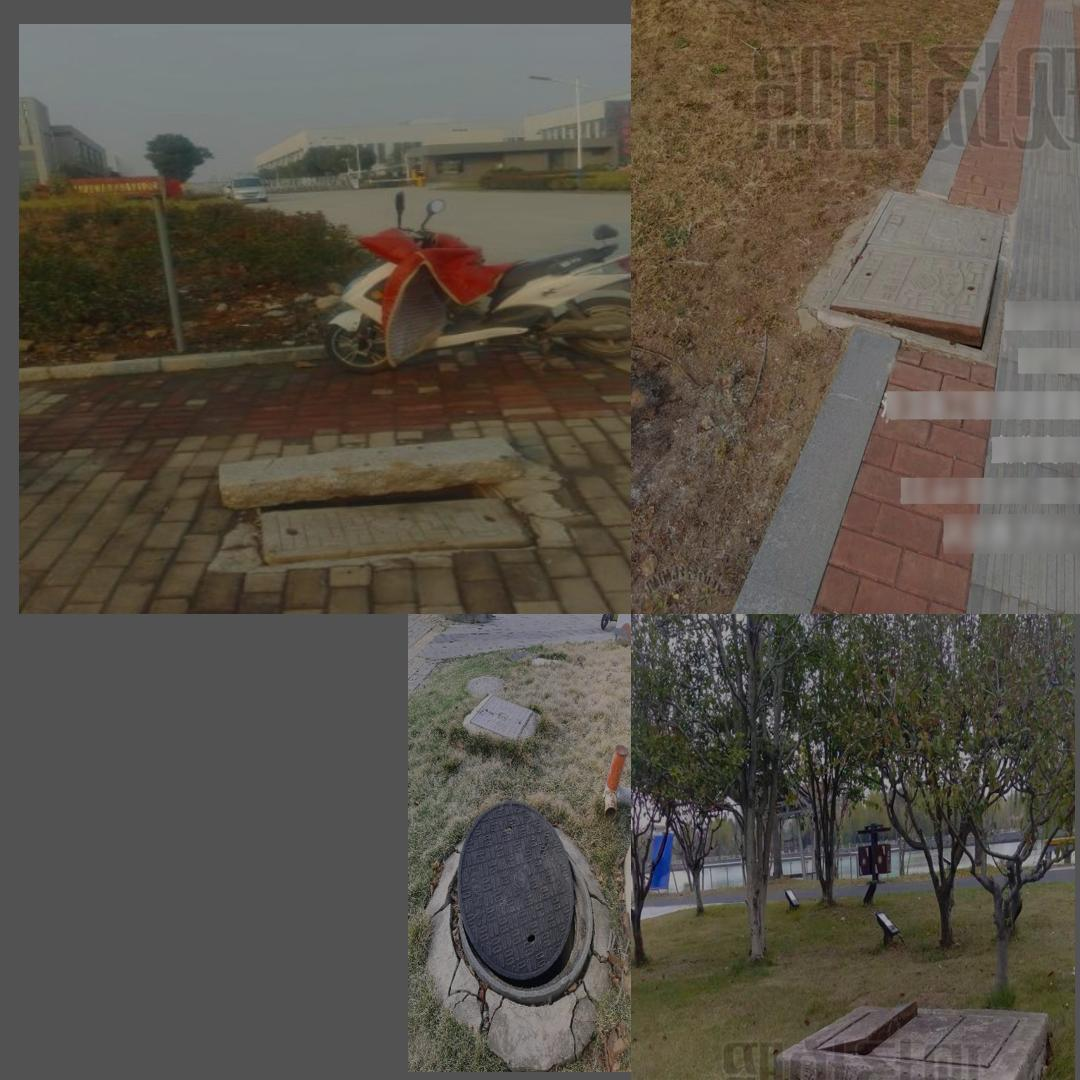good: (470, 693, 534, 746)
uncovered: (217, 438, 541, 563), (822, 184, 1016, 366), (456, 800, 594, 1001), (753, 996, 1043, 1080)
